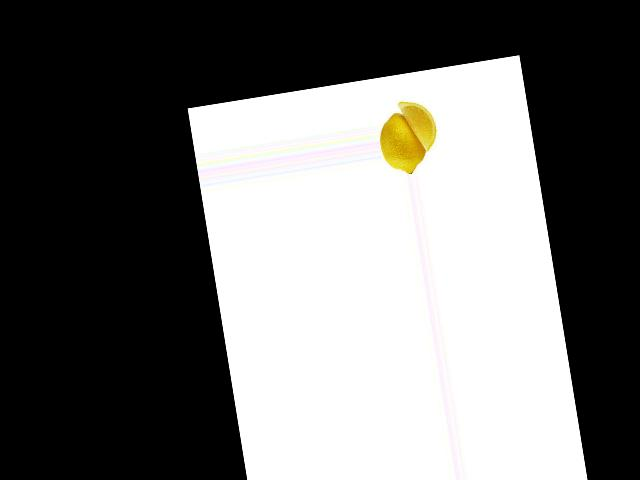lemon: (375, 105, 430, 179)
